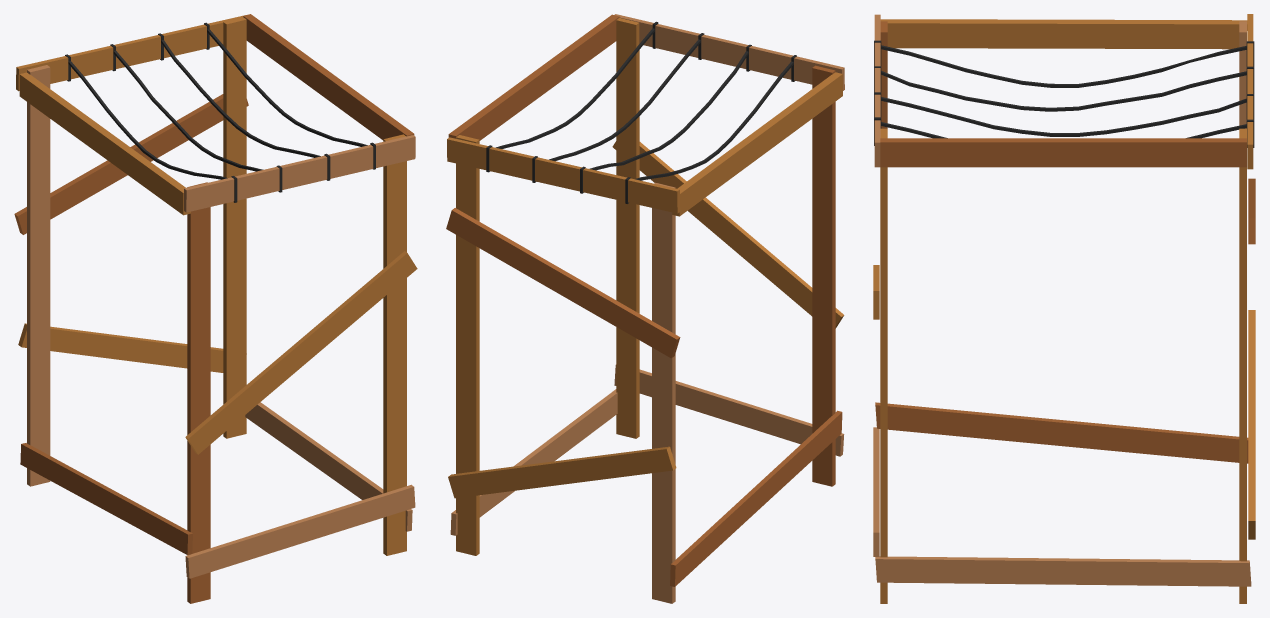
The model's file is DeskRope.fbx.
3 renders of one model, left to right at view 1: azimuth 30°, elevation 25°; view 2: azimuth 150°, elevation 25°; view 3: azimuth 270°, elevation 25°, orthographic. The views are drawn at different scales.
Visible parts, largest first — view 1: DescRope; view 2: DescRope; view 3: DescRope.
Boxes of the visible parts, x1=… form: DescRope: x1=14, y1=14, x2=417, y2=603; DescRope: x1=446, y1=14, x2=844, y2=603; DescRope: x1=873, y1=14, x2=1255, y2=603.
Bounding box in the file's own units: 144 × 247 × 183.
